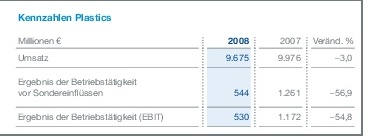table: (0, 0, 368, 138)
